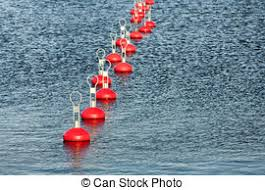buoy: (63, 128, 90, 143), (82, 106, 105, 120), (111, 60, 134, 73), (94, 87, 116, 100), (94, 73, 112, 85), (105, 53, 122, 63), (122, 44, 136, 53), (130, 31, 142, 40), (139, 26, 152, 33), (117, 38, 128, 46), (131, 16, 143, 21), (131, 10, 141, 14)
